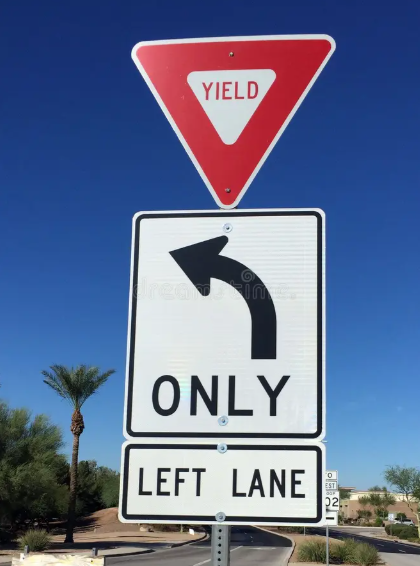Left Turn Only: (140, 219, 315, 429), (127, 36, 337, 208)
